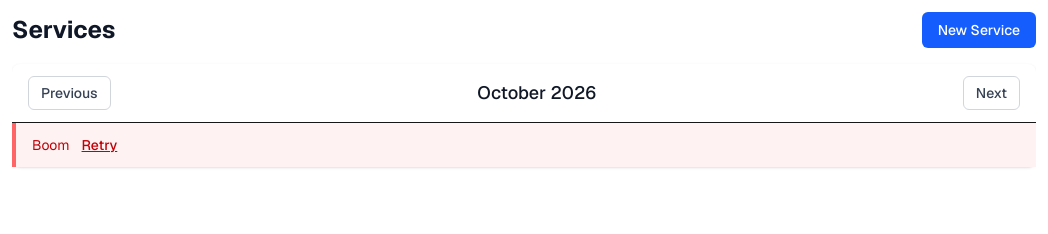
ServicesPage › shows an error with Retry
Expected: the message shows "Boom", [32,136,70,154]
Click the button "Retry". click: (99, 145)
box: [82,135,117,155]
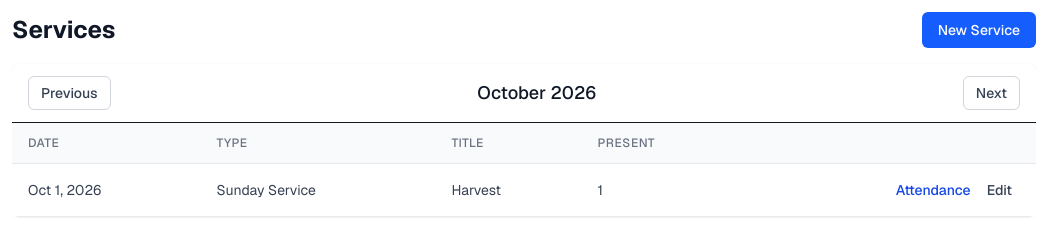
Expected: the cell "Harvest" is shown, [435,164,581,216]
